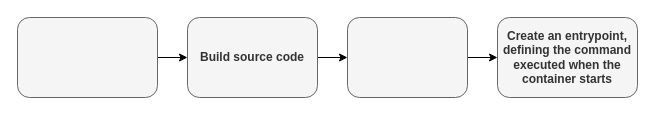
This 655x115 diagram has some shape labels left out. The centre of each missing label's shape, as x and y in pixels:
"Persist the built executable inside the new container" goes at (x=407, y=57).
"Use a compatible (existing) Docker image as a baseline" goes at (x=87, y=57).
